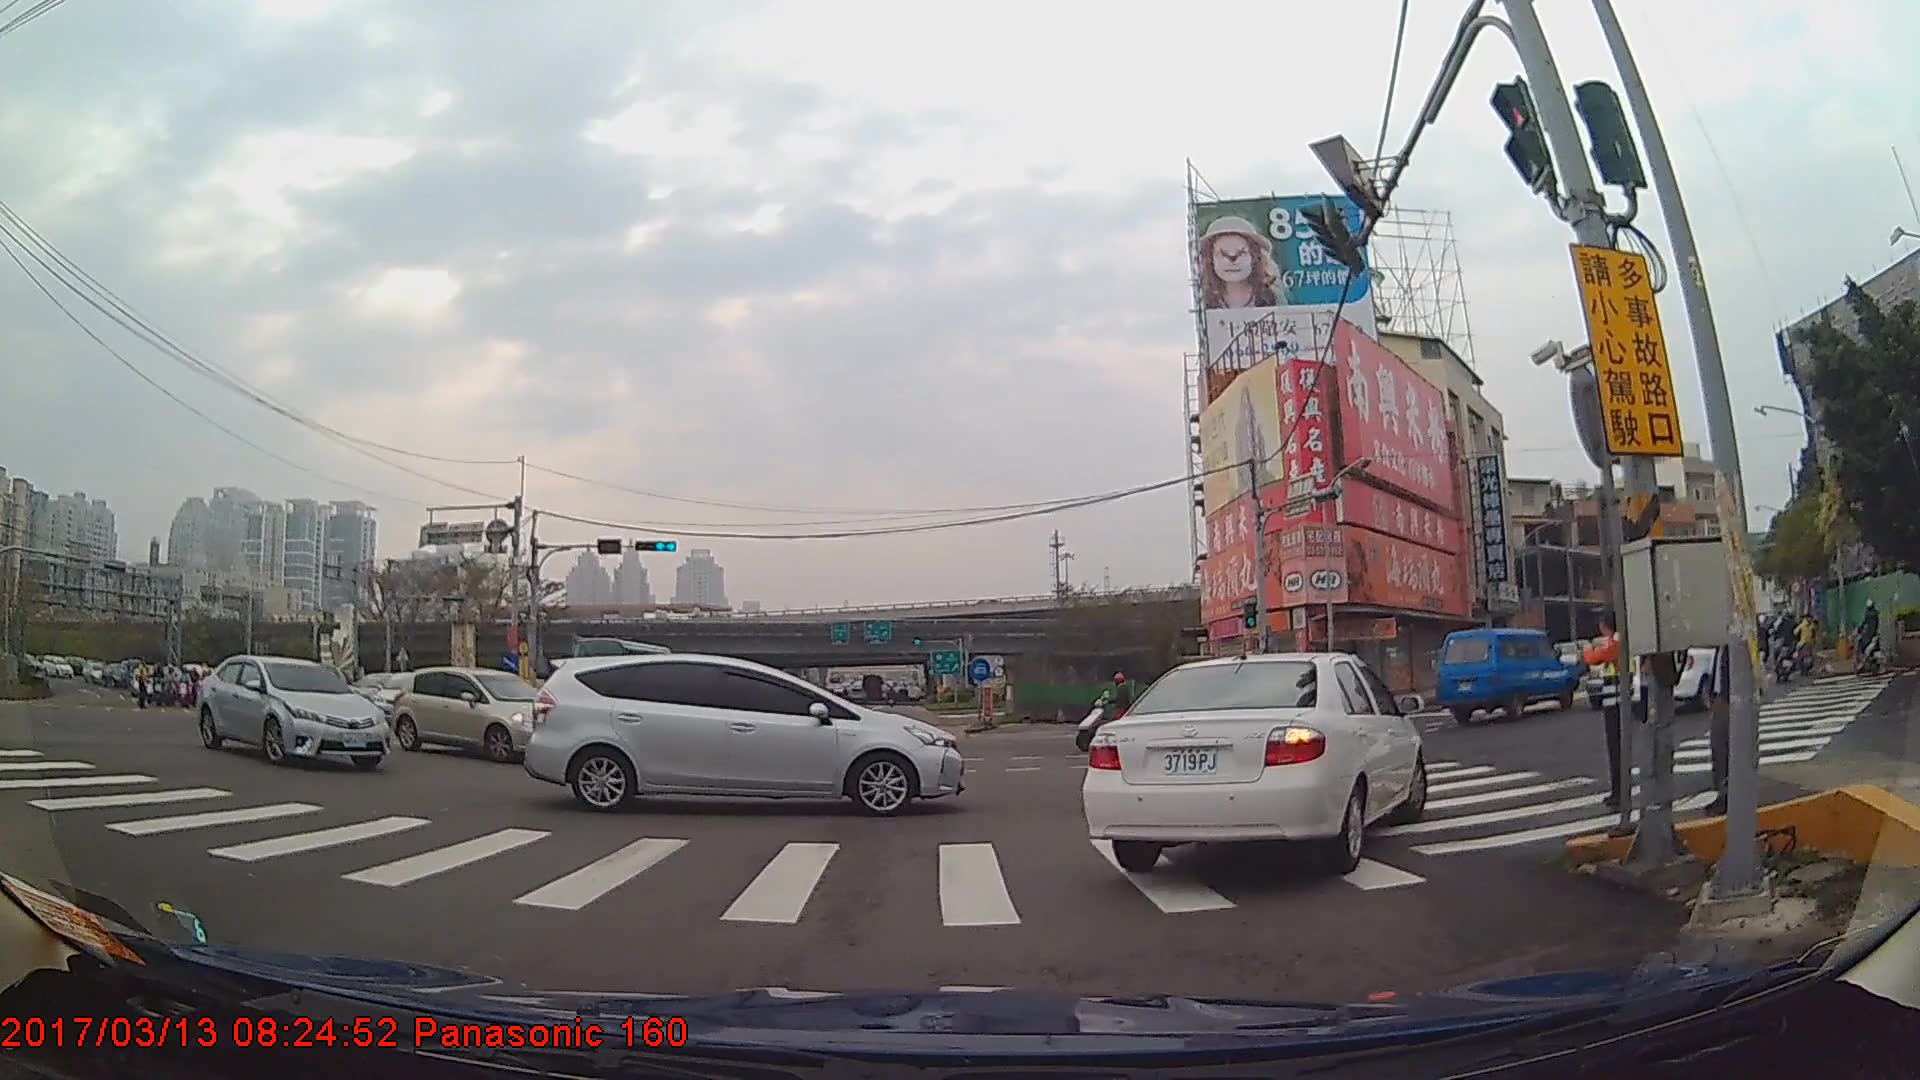pedestrian: (1682, 547, 1767, 827)
rider: (1074, 669, 1159, 754), (1845, 593, 1884, 679), (1774, 606, 1801, 683), (1794, 607, 1817, 682), (1751, 613, 1771, 666)
vehicle: (1083, 647, 1426, 873), (520, 652, 961, 817), (194, 653, 390, 772), (391, 664, 564, 761), (1429, 626, 1576, 721)
